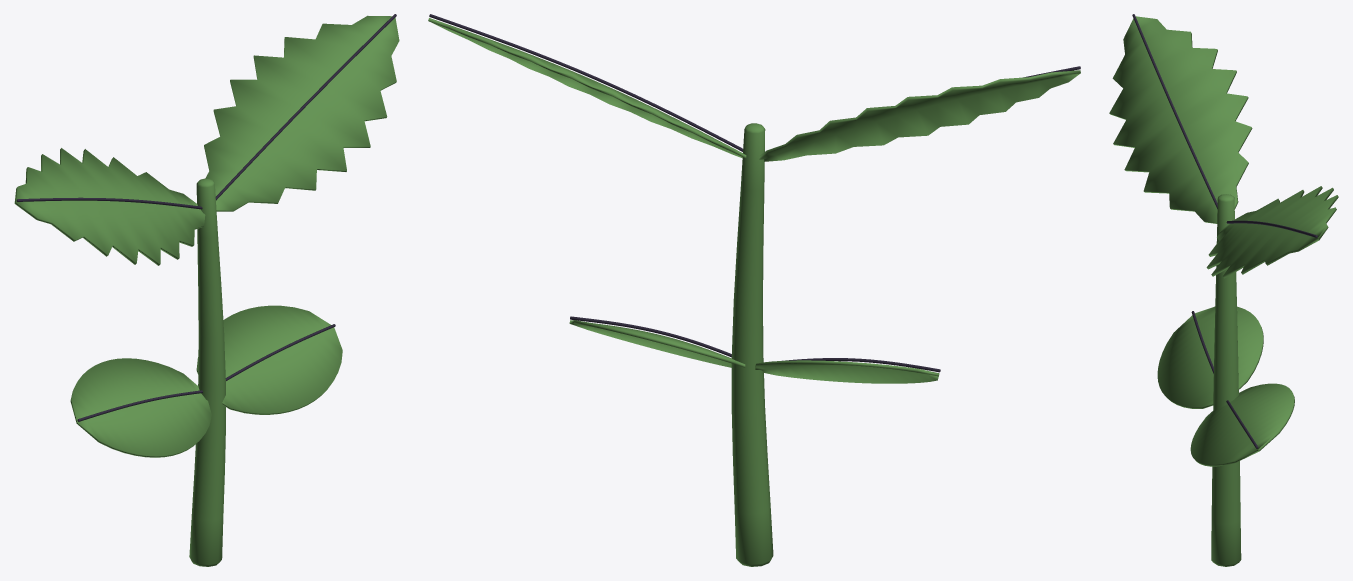
File: herb_seedling.glb
3 renders of one model, left to right at view 1: azimuth 30°, elevation 25°; view 2: azimuth 150°, elevation 25°; view 3: azimuth 270°, elevation 25°, orthographic. The views are drawn at different scales.
Parts seen in each view (by area): view 1: cannabis_compact_seedling_Geometry; view 2: cannabis_compact_seedling_Geometry; view 3: cannabis_compact_seedling_Geometry.
Part boxes in pixels (x1=…): cannabis_compact_seedling_Geometry: x1=14, y1=14, x2=399, y2=566; cannabis_compact_seedling_Geometry: x1=428, y1=14, x2=1080, y2=566; cannabis_compact_seedling_Geometry: x1=1109, y1=14, x2=1338, y2=566.
Size of the model in its own units: 0.1503 by 0.1384 by 0.0655.
